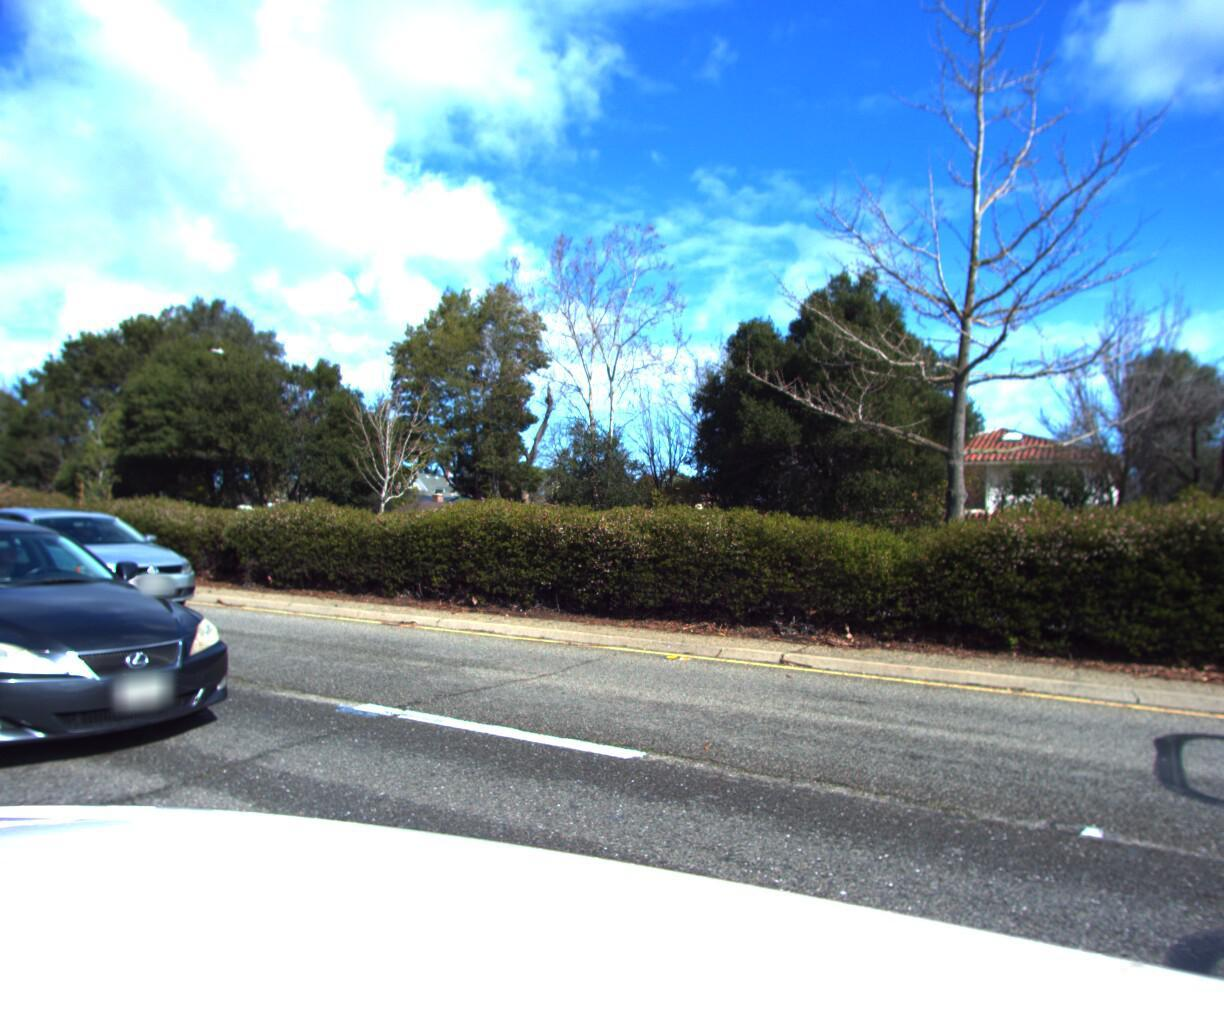car: (0, 507, 283, 800), (0, 506, 228, 629)
